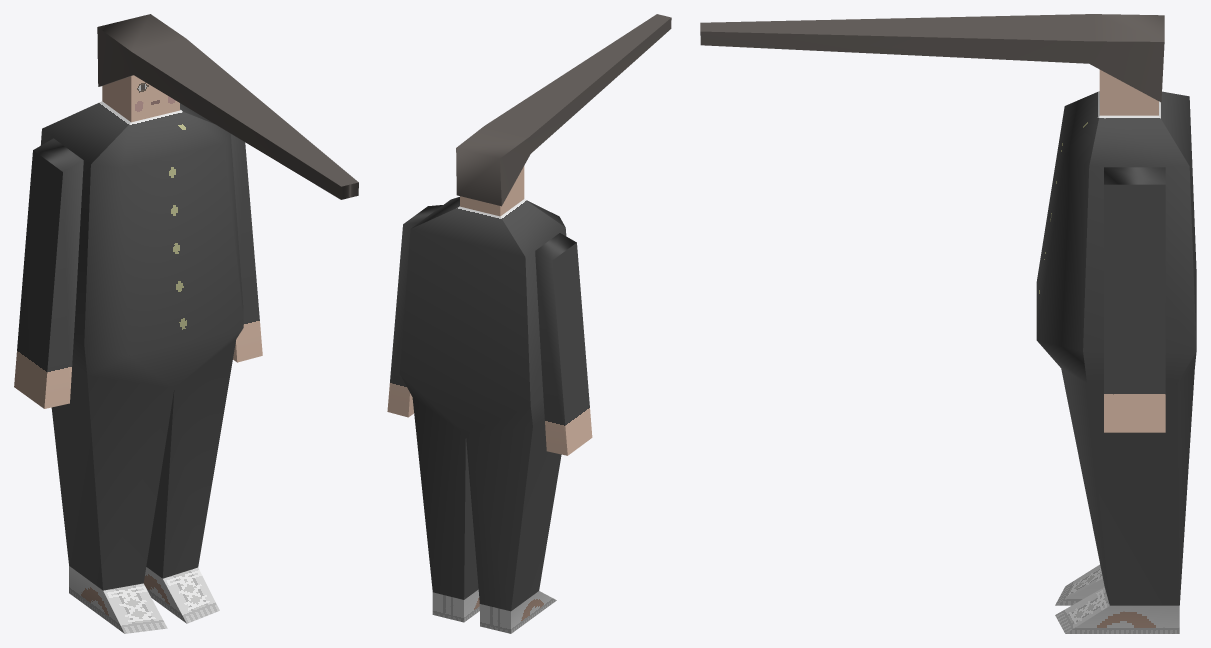
Rendered from 0218_Fat_Schoolboy.glb.
3 views of the same model, side by side, from view 1: azimuth 30°, elevation 25°; view 2: azimuth 150°, elevation 25°; view 3: azimuth 270°, elevation 25° (orthographic). The views are drawn at different scales.
Visible parts, largest first — view 1: part_0; view 2: part_0; view 3: part_0.
Boxes of the visible parts, <box> form: part_0: <box>14,14,358,633</box>; part_0: <box>387,14,671,633</box>; part_0: <box>700,14,1196,633</box>.
Bounding box in the file's own units: 0.8475 × 2.1 × 1.62.
Materials: 1 (1 with a texture image).
